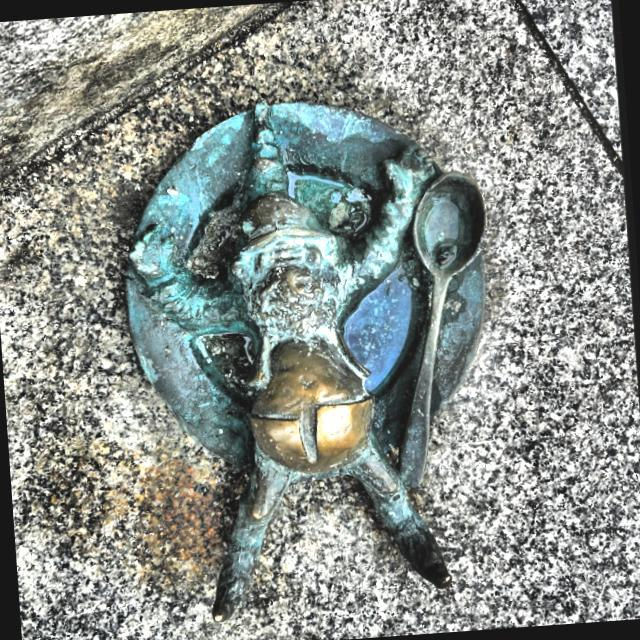Obiezysmak: (122, 103, 487, 622)
